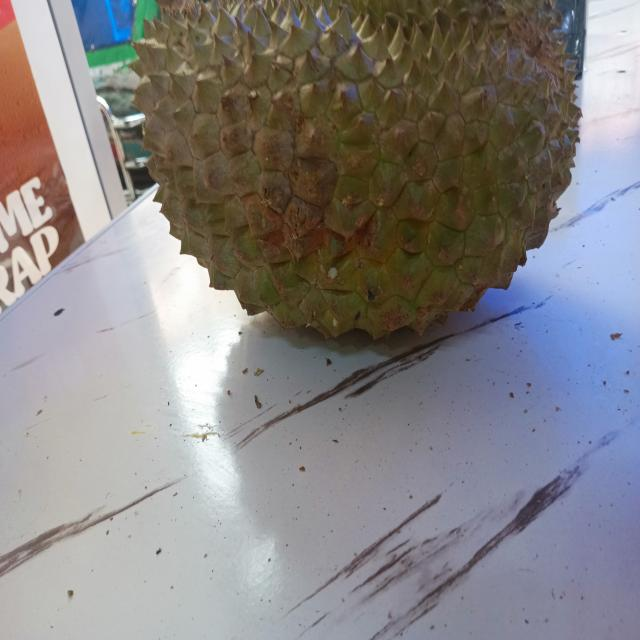mature: (127, 1, 593, 348)
